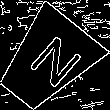N_SW: (14, 29, 80, 93)
